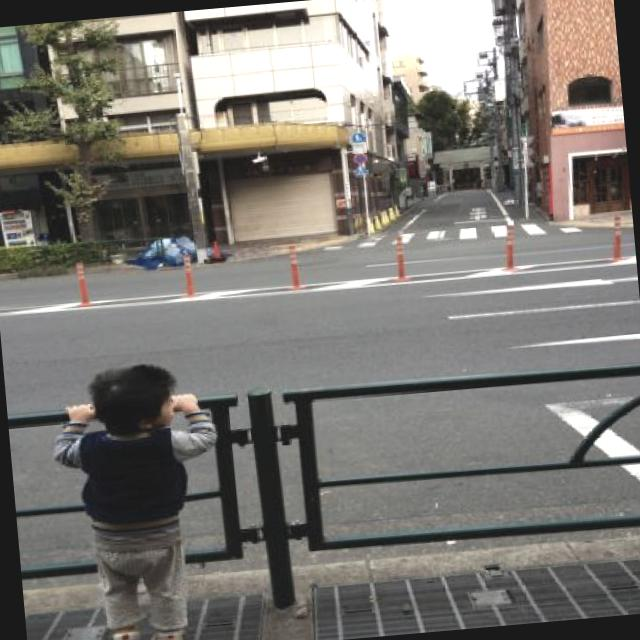Person: (42, 354, 237, 640)
